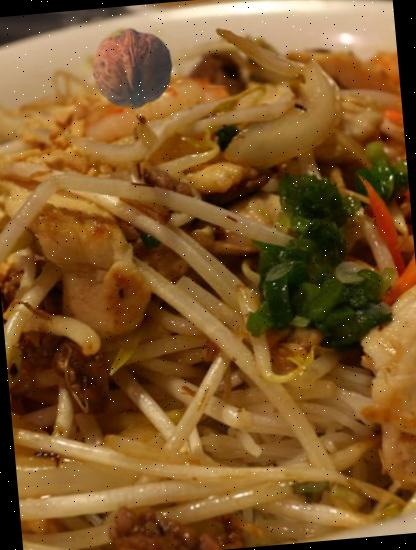Walnut: (88, 25, 177, 114)
